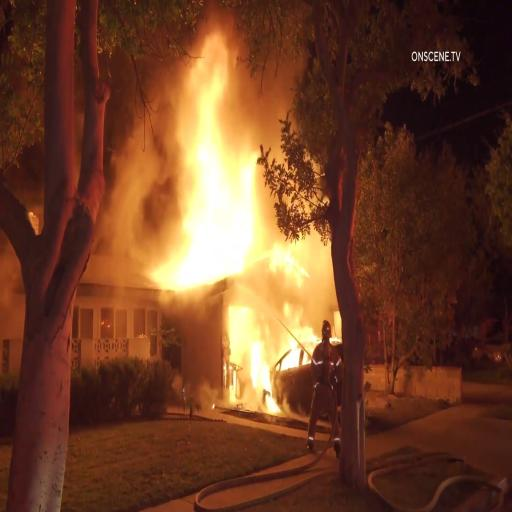fire: (172, 0, 261, 286), (232, 252, 321, 347), (232, 242, 276, 411)
smoke: (110, 141, 166, 277)
